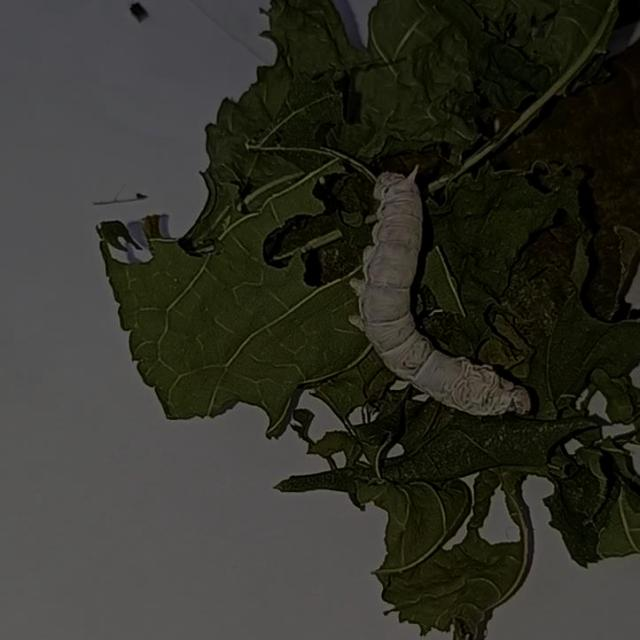Healthy: (331, 150, 546, 433)
